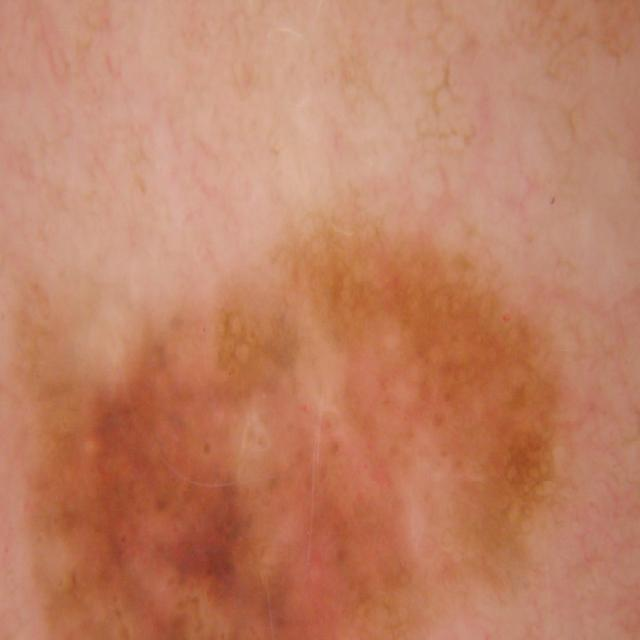Melanoma: (0, 205, 588, 640)
